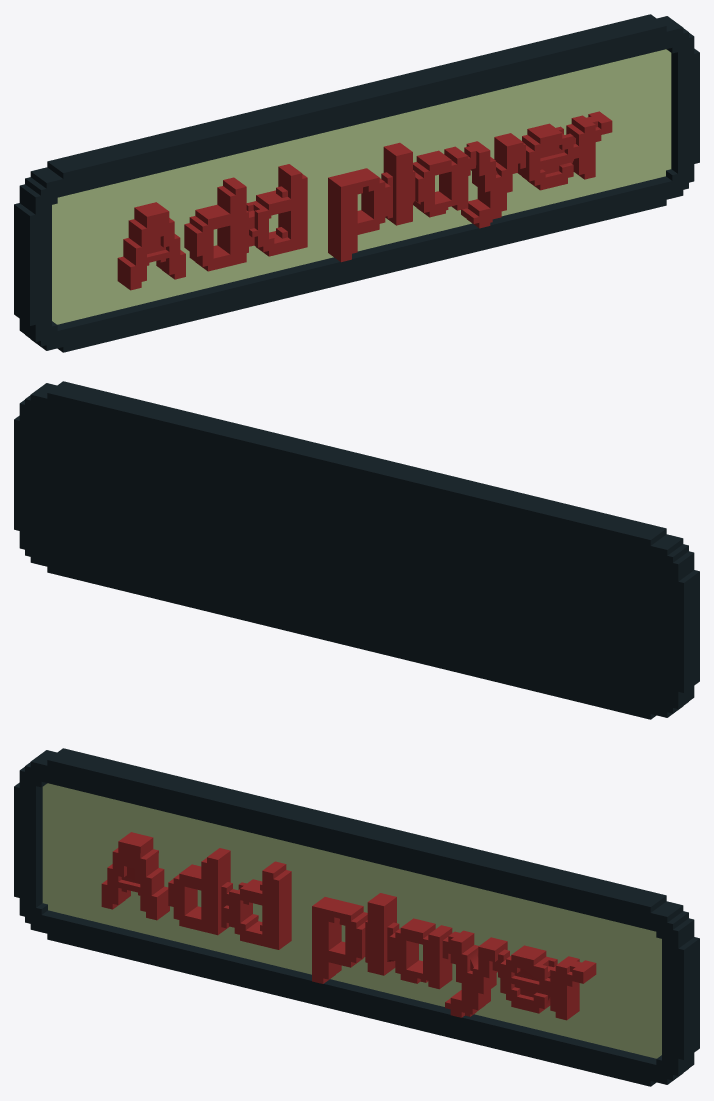
File: button_add.fbx
3 views of the same model, one above another, from view 1: azimuth 30°, elevation 25°; view 2: azimuth 150°, elevation 25°; view 3: azimuth 330°, elevation 25° (orthographic).
Parts seen in each view (by area): view 1: OUT; view 2: OUT; view 3: OUT.
Part boxes in pixels (box(x1,y1,x2,y2)): OUT: box(14, 14, 699, 352); OUT: box(14, 381, 699, 719); OUT: box(14, 748, 699, 1086).
Size of the model in its own units: 6.05 by 1.55 by 0.3502.
